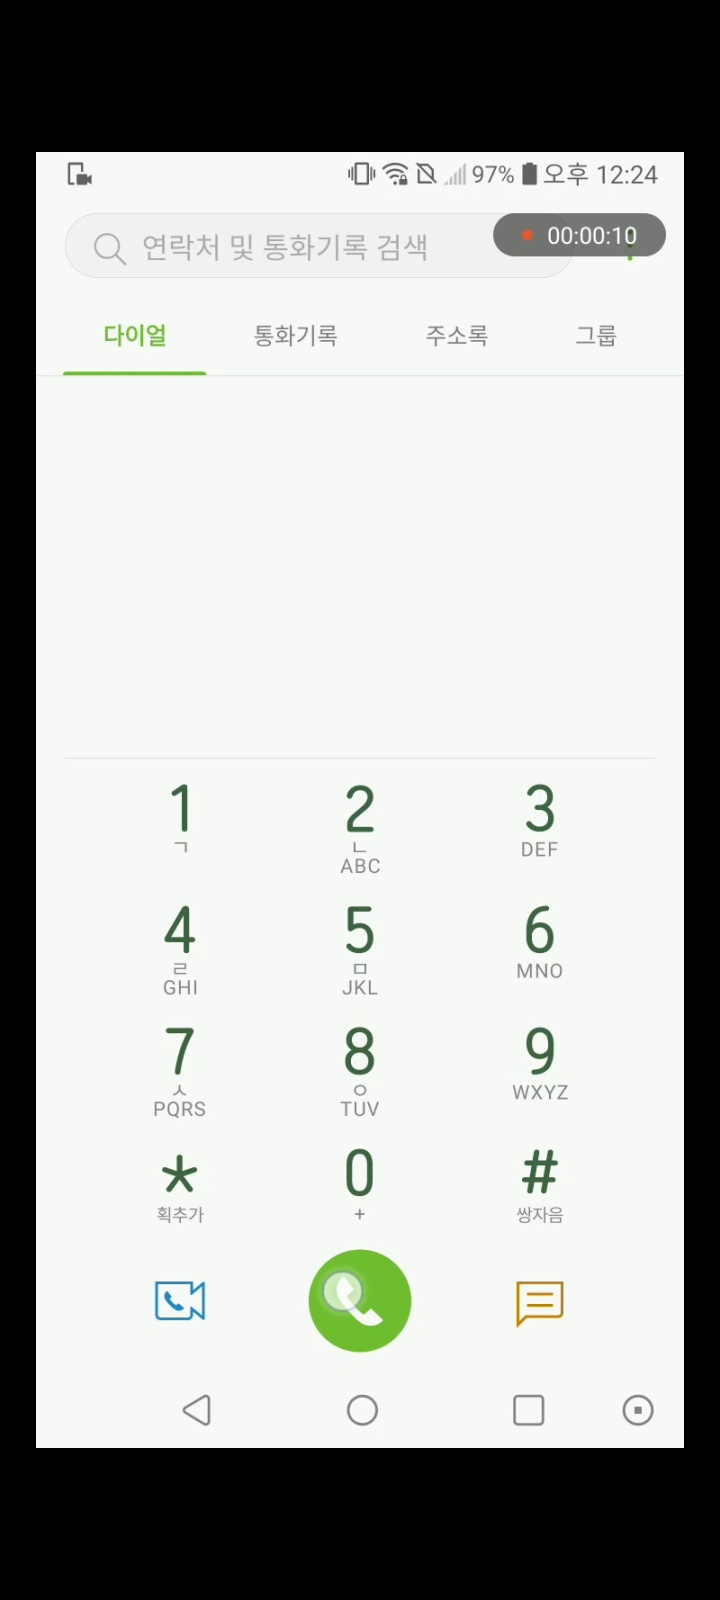Cursor: (320, 1268, 365, 1313)
